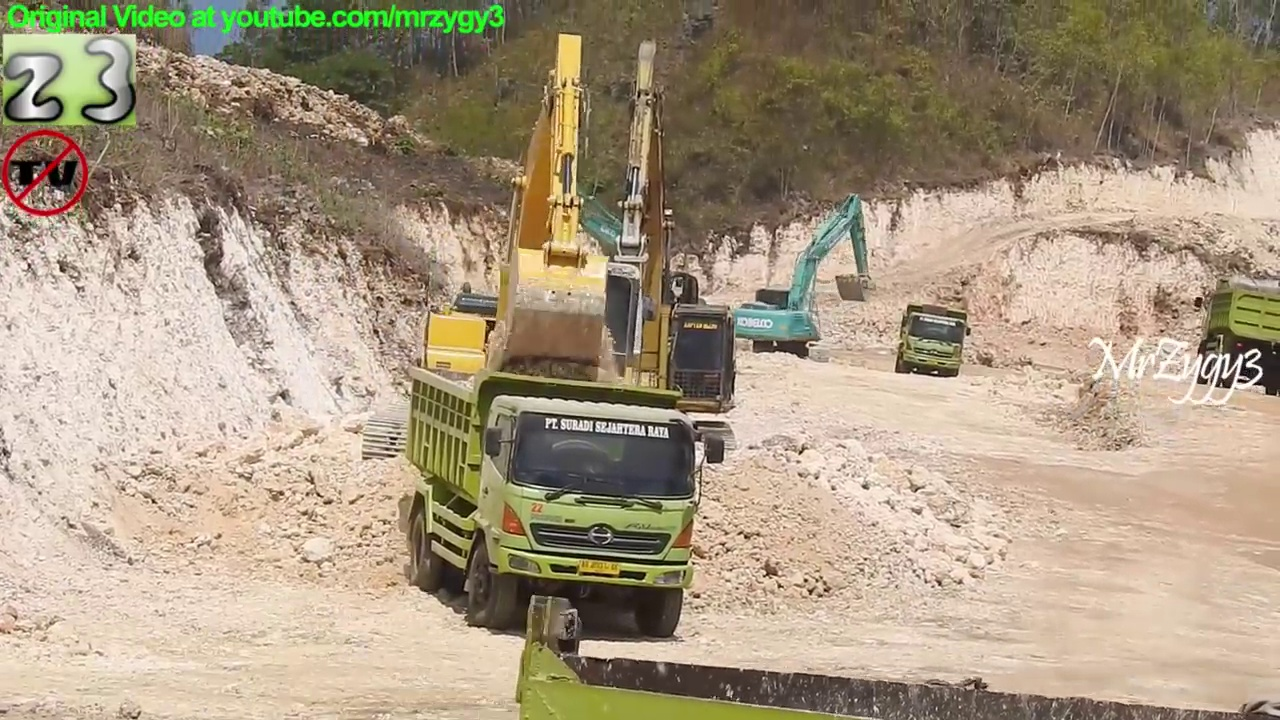excavator: (358, 30, 674, 476), (434, 33, 744, 468), (727, 190, 875, 359)
truck: (510, 592, 1280, 720), (402, 364, 705, 644), (1191, 275, 1280, 400), (895, 302, 972, 378)
